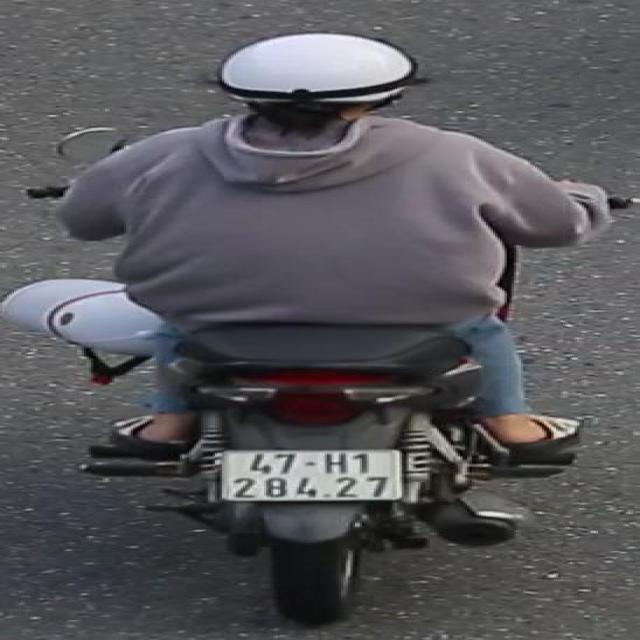LP: (218, 446, 412, 506)
helmet: (212, 28, 428, 136)
